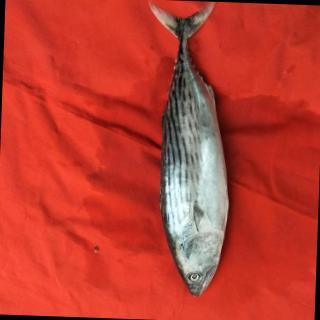Ikan: (130, 5, 244, 306)
